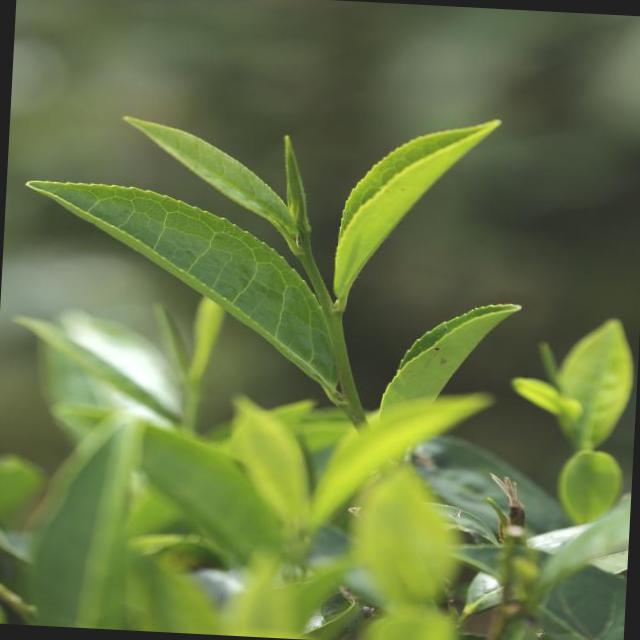Stem: (298, 250, 316, 269)
